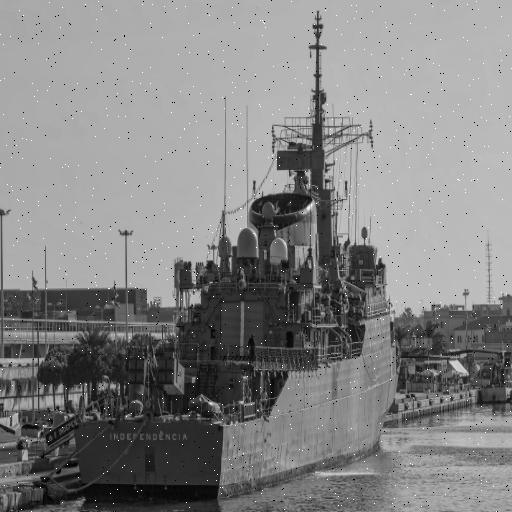Fragata: (67, 1, 409, 512)
